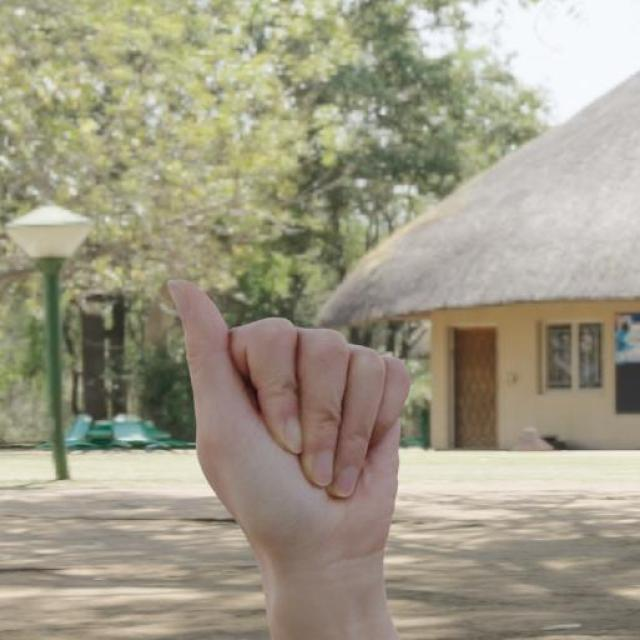A: (156, 267, 420, 567)
